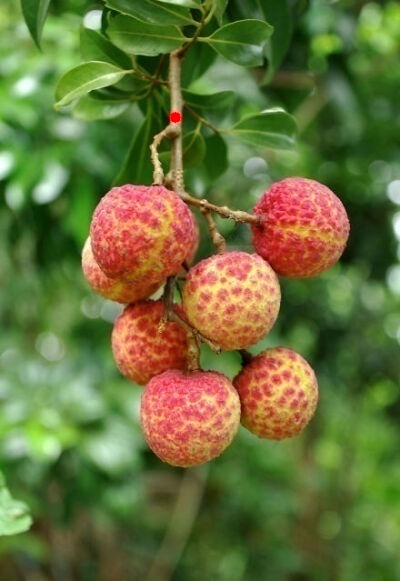litchi: (79, 181, 332, 456)
stem: (162, 0, 190, 149)
